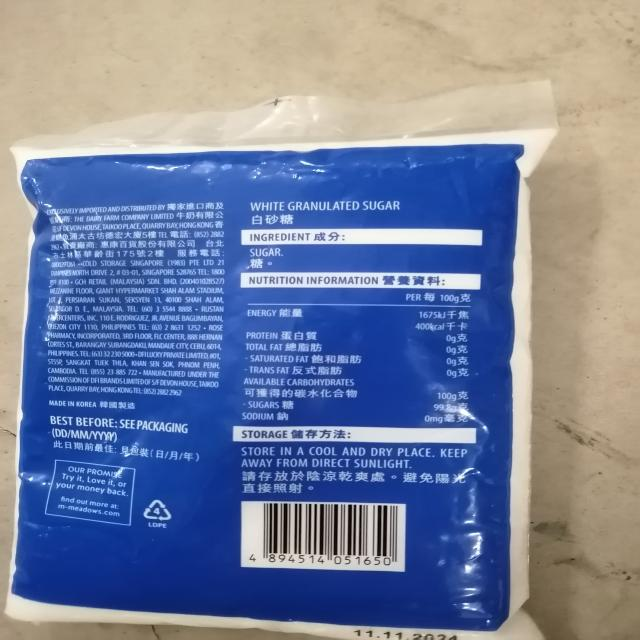object_name: (12, 145, 533, 640)
